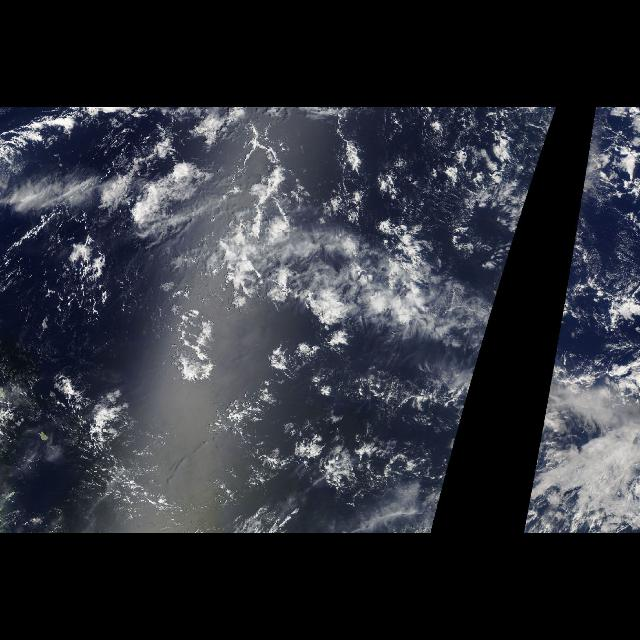Gravel: (42, 372, 188, 520), (10, 221, 114, 313)
